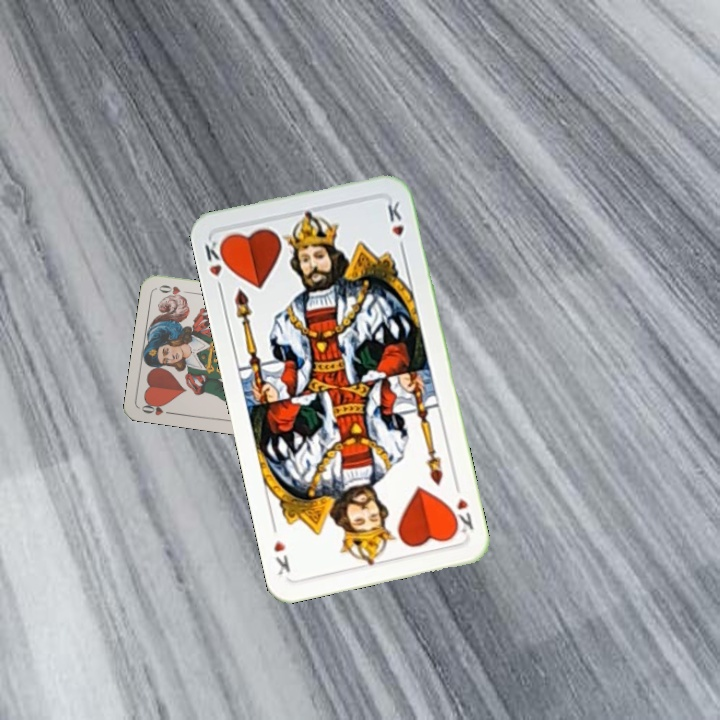HK: (200, 234, 232, 295), (446, 479, 476, 537)
HO: (138, 398, 178, 418)
